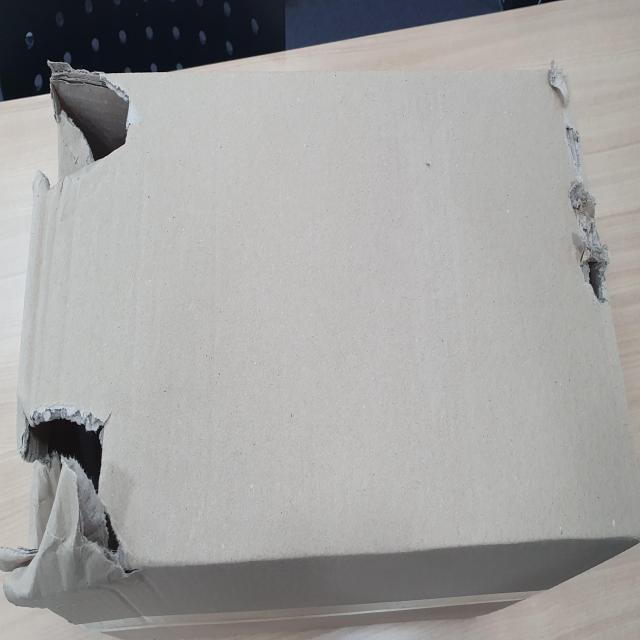damaged: (34, 27, 134, 220), (248, 71, 325, 232)
